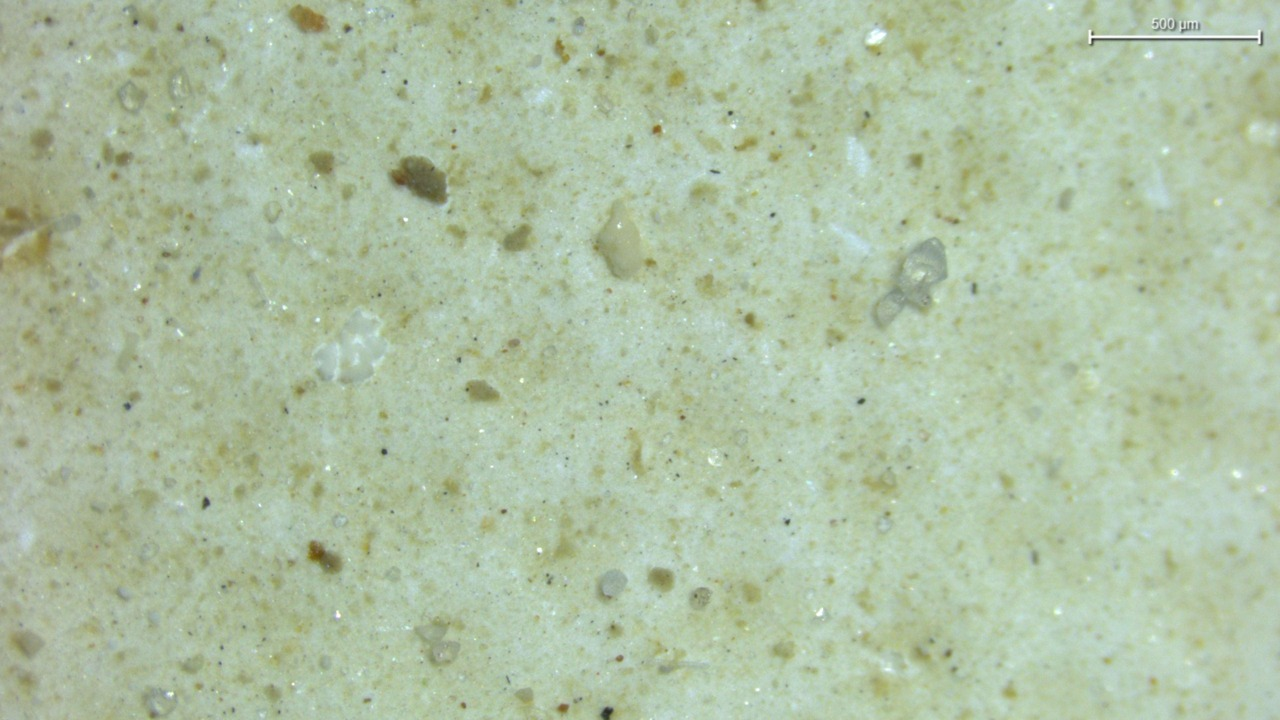microplastic_fragment: (872, 238, 947, 326), (594, 200, 645, 278), (599, 570, 627, 598), (414, 622, 449, 644), (427, 641, 460, 664)
